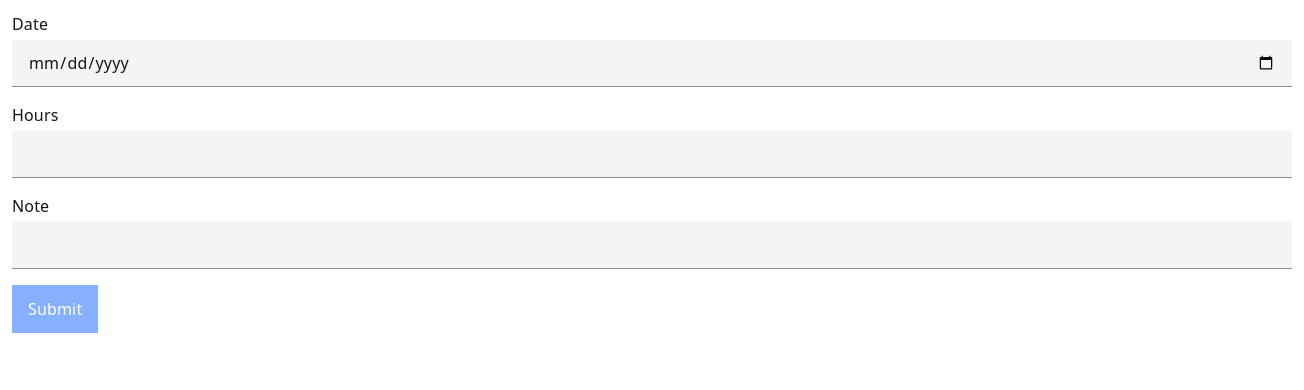
Test: OvertimeRequestForm › disables submit until date, hours, and note are all present
Expected: the button "Submit" is disabled, [12,285,98,333]
In the date field labelled "Date": (652, 64) [12,40,1292,87], type "2026-07-15"
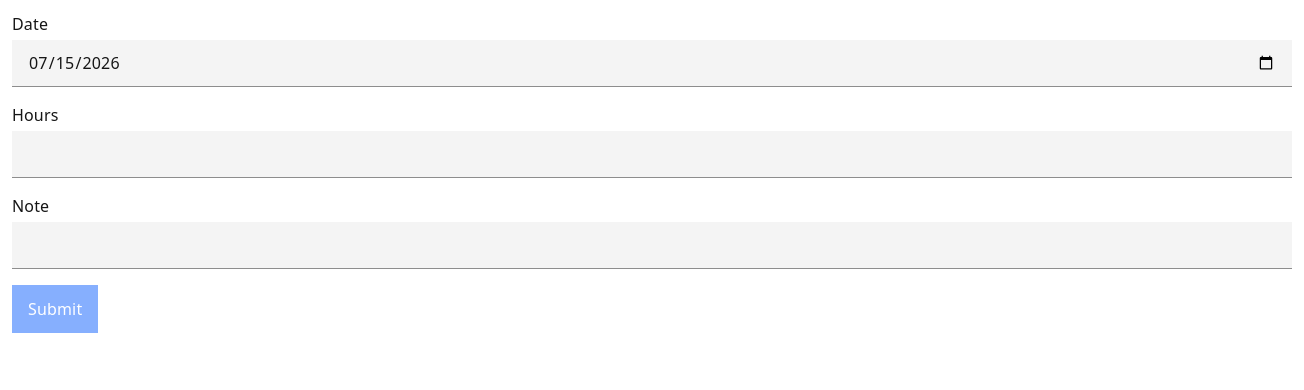
Expected: the button "Submit" is disabled, [12,285,98,333]
In the number field labelled "Hours": (652, 154) [12,131,1292,178], type "2"
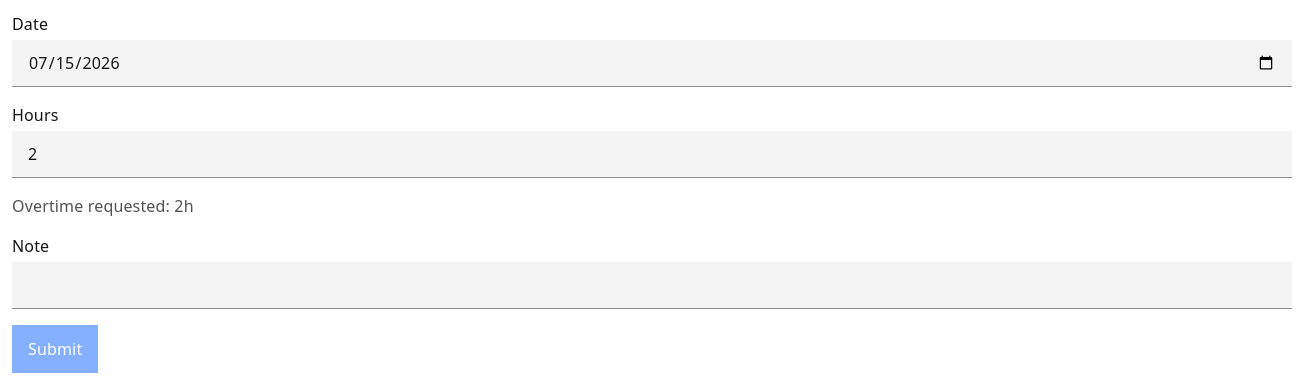
Expected: the button "Submit" is disabled, [12,325,98,373]
In the field labelled "Note": (652, 286) [12,262,1292,309], type "Release crunch"
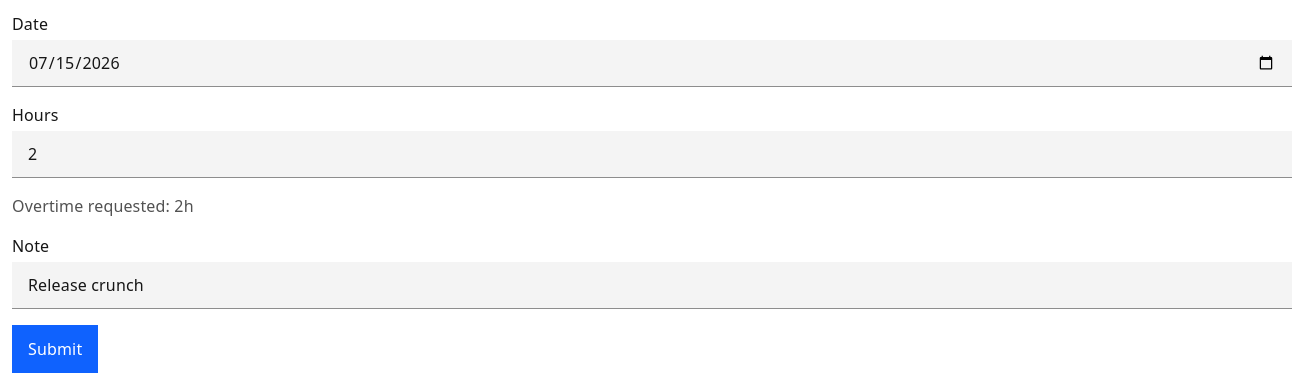
Expected: the button "Submit" is enabled, [12,325,98,373]
